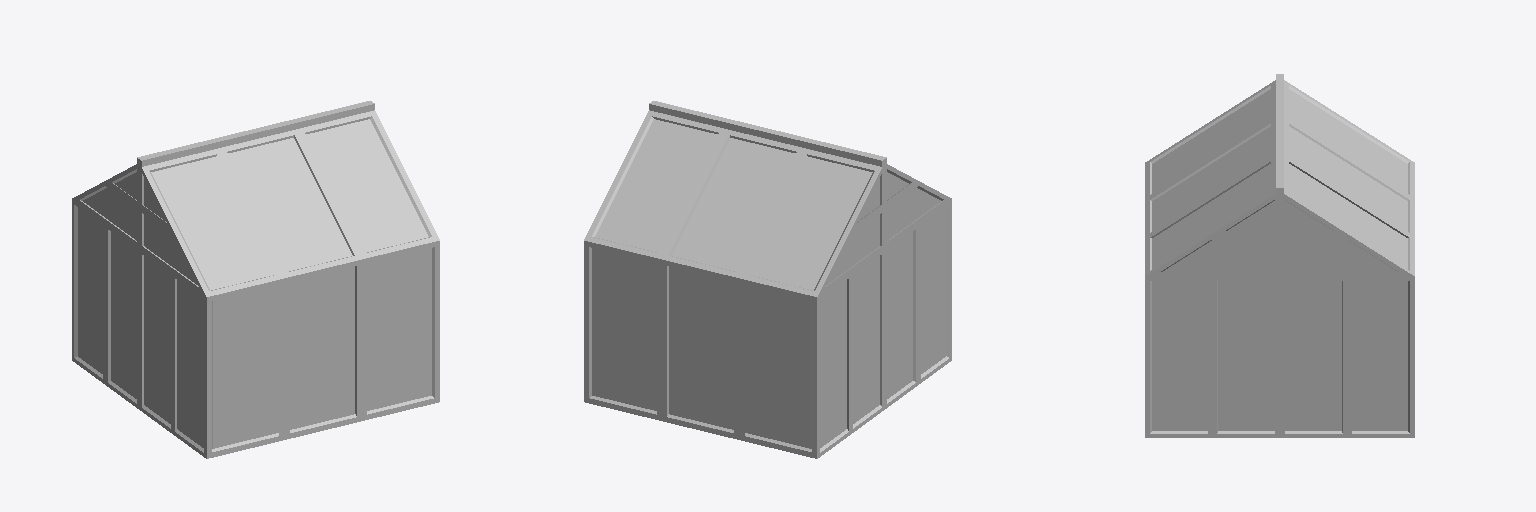
Rendered from greenhouse.obj.
3 renders of one model, left to right at view 1: azimuth 30°, elevation 25°; view 2: azimuth 150°, elevation 25°; view 3: azimuth 270°, elevation 25°, orthographic.
Visible parts, largest first — view 1: greenhouse; view 2: greenhouse; view 3: greenhouse.
Part boxes in pixels (x1,y1,x2,y2): greenhouse: (72, 101, 439, 458); greenhouse: (584, 101, 951, 458); greenhouse: (1145, 74, 1414, 437).
Size of the model in its own units: 0.6 by 0.6158 by 0.6.